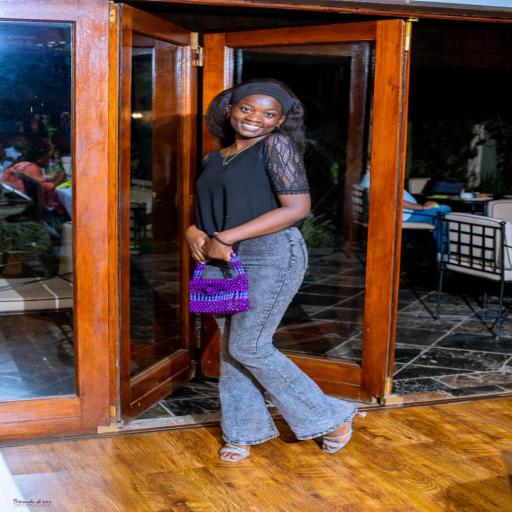LAURENE: (213, 79, 298, 147)
